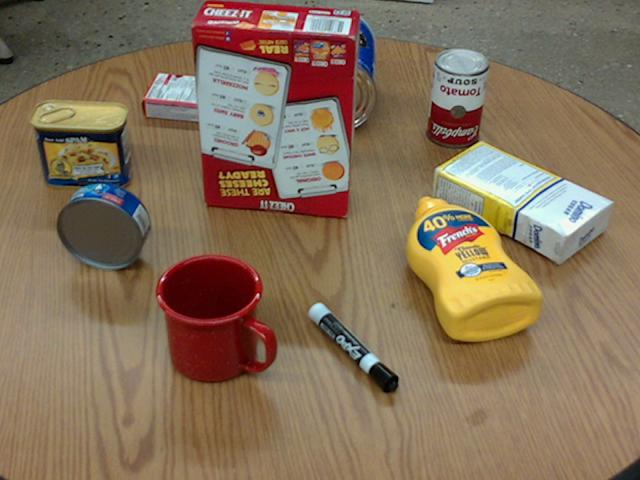cracker_box: (190, 0, 358, 214)
gelatin_box: (141, 74, 220, 123)
large_marker: (306, 302, 397, 392)
master_chef_can: (293, 10, 375, 131)
mug: (154, 253, 276, 383)
mustard_bottle: (404, 196, 541, 340)
potted_meat_can: (28, 101, 131, 190)
sugar_box: (430, 144, 612, 260)
tomato_soup_can: (423, 47, 486, 146)
tuna_fish_can: (56, 182, 149, 269)
